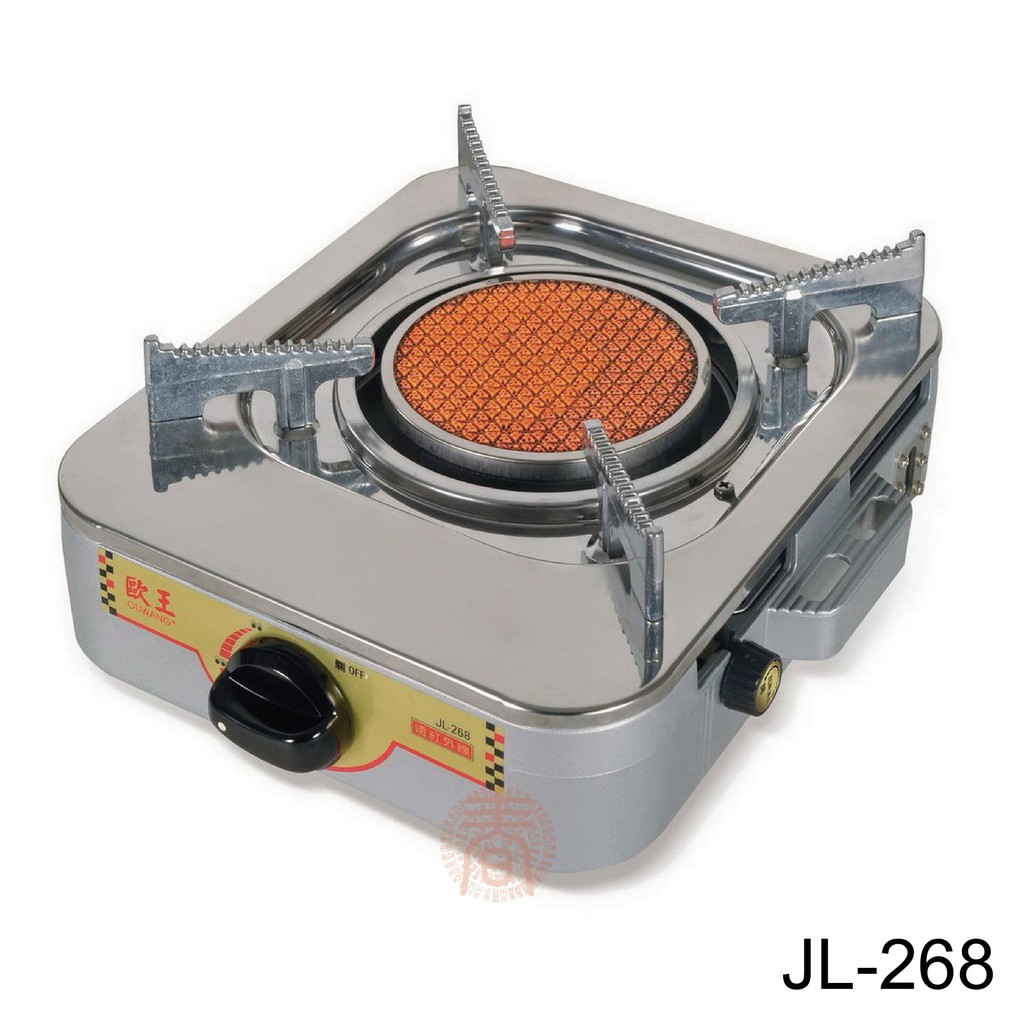gasoven: (40, 96, 983, 895)
